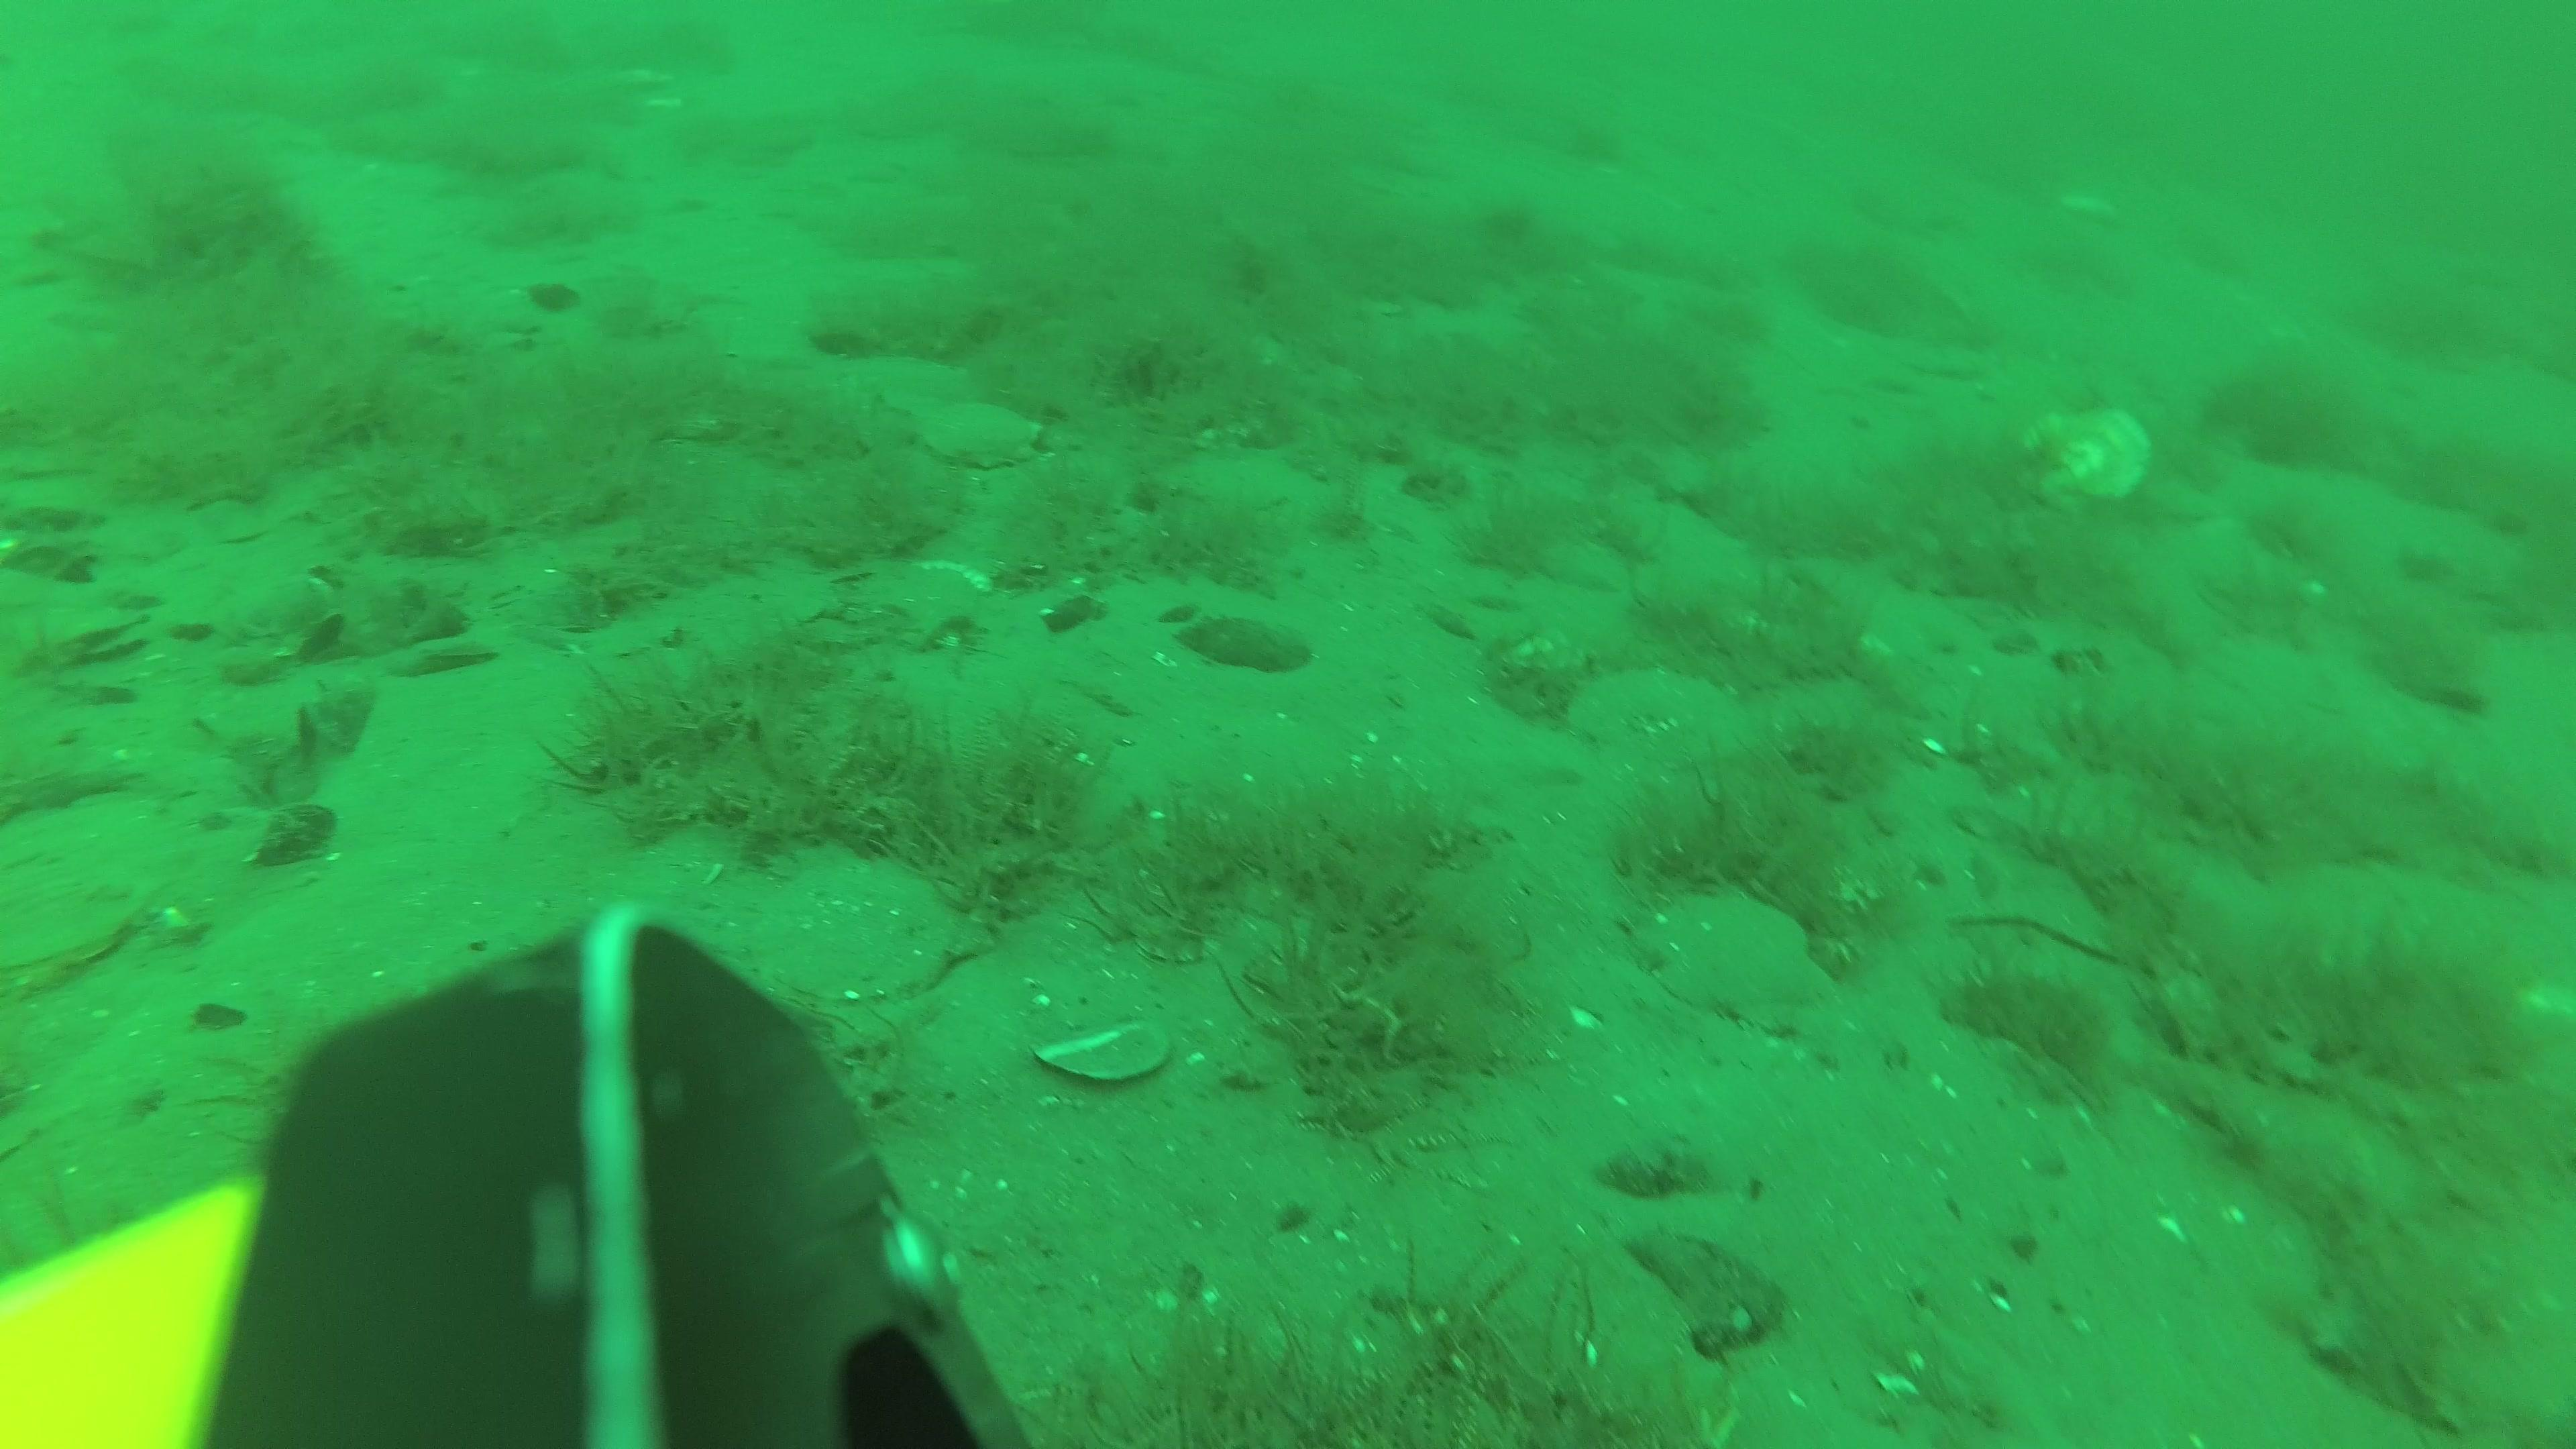scallop: (755, 855, 993, 996), (1633, 892, 1828, 1008), (2024, 412, 2143, 508), (918, 396, 1040, 464), (2058, 189, 2116, 219)
